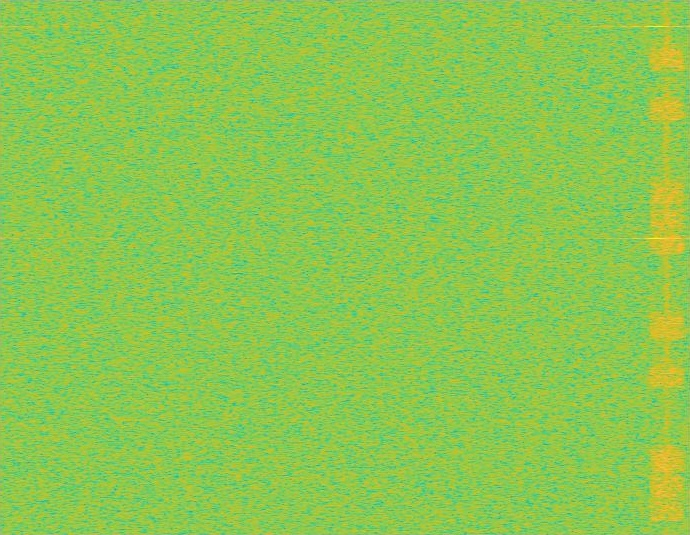DSSS: (665, 0, 669, 534)
LTE: (650, 0, 684, 534)
Radar: (650, 0, 664, 534)
